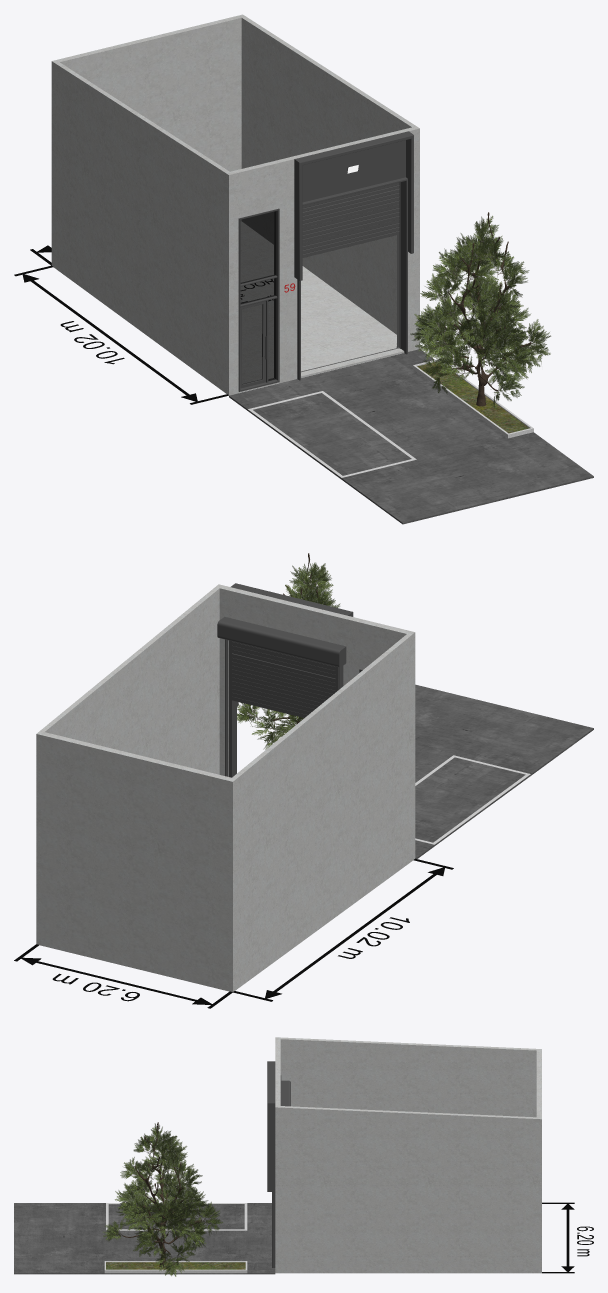
The model's file is Without_Mezzanine.glb.
3 views of the same model, one above another, from view 1: azimuth 30°, elevation 25°; view 2: azimuth 150°, elevation 25°; view 3: azimuth 270°, elevation 25° (orthographic). The views are drawn at different scales.
Visible parts, largest first — view 1: Object1746170105, Box2131647076, Box2131646542, Object1746168793.002, Object1834019083, Object1834019082, DIM_Line_001; view 2: Object1746170105, Box2131647076, Box2131646542, Object1746168793.002, DIM_Line_001, DIM_Line_002, Object1834019082; view 3: Object1746170105, Box2131647076, Object1746168793.002, Box2131646542, Object1834019083, DIM_Line_002, Object1834019082.
Part boxes in pixels (left/top/right/bottom): Object1746170105: left=51, top=14, right=419, bottom=395; Box2131647076: left=229, top=349, right=593, bottom=524; Box2131646542: left=238, top=131, right=413, bottom=391; Object1746168793.002: left=410, top=212, right=550, bottom=407; Object1834019083: left=413, top=359, right=533, bottom=438; Object1834019082: left=248, top=391, right=416, bottom=477; DIM_Line_001: left=14, top=265, right=228, bottom=404; Object1746170105: left=36, top=584, right=415, bottom=991; Box2131647076: left=415, top=684, right=593, bottom=858; Box2131646542: left=217, top=583, right=362, bottom=777; Object1746168793.002: left=237, top=553, right=340, bottom=749; DIM_Line_001: left=233, top=858, right=453, bottom=1001; DIM_Line_002: left=14, top=944, right=232, bottom=1008; Object1834019082: left=415, top=755, right=530, bottom=844; Object1746170105: left=275, top=1037, right=541, bottom=1273; Box2131647076: left=14, top=1203, right=275, bottom=1274; Object1746168793.002: left=102, top=1122, right=222, bottom=1276; Box2131646542: left=267, top=1061, right=290, bottom=1267; Object1834019083: left=104, top=1261, right=247, bottom=1273; DIM_Line_002: left=542, top=1202, right=574, bottom=1273; Object1834019082: left=106, top=1203, right=247, bottom=1230.
Bounding box in the file's own units: 10.12 × 7.08 × 22.19.
18 materials, 8 textured.
